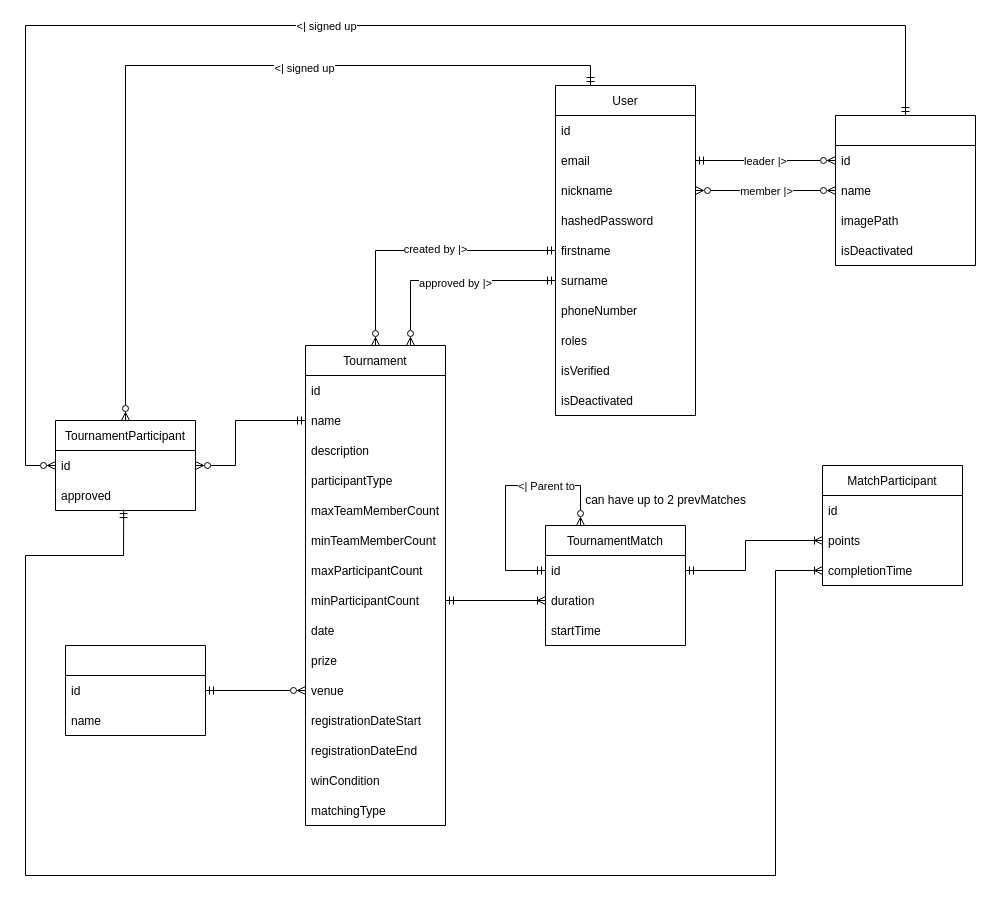
This 993x902 diagram has some shape labels left out. The box of each missing label's shape, as (x1, y1, x2, y2) in pixels:
Team: (834, 114, 976, 266)
TournamentType: (64, 644, 206, 736)
